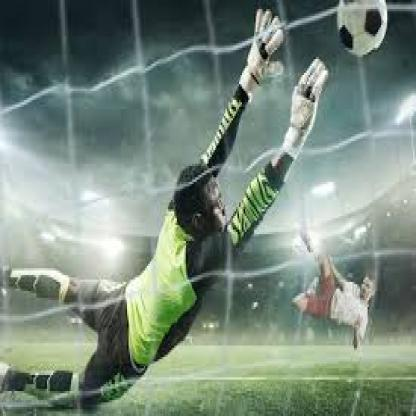ball: (338, 0, 388, 57)
